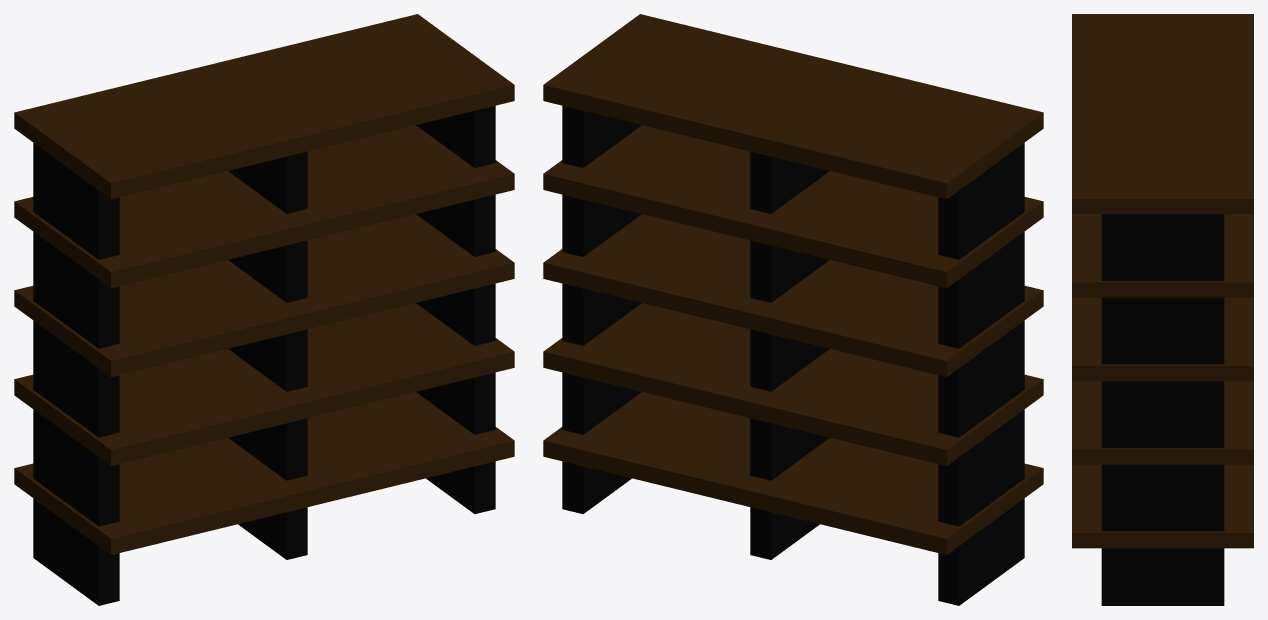
The model's file is Shelf.fbx.
3 renders of one model, left to right at view 1: azimuth 30°, elevation 25°; view 2: azimuth 150°, elevation 25°; view 3: azimuth 270°, elevation 25°, orthographic. The views are drawn at different scales.
Parts seen in each view (by area): view 1: shelf; view 2: shelf; view 3: shelf.
Part boxes in pixels (left/top/right/bottom): shelf: left=14, top=14, right=514, bottom=605; shelf: left=543, top=14, right=1043, bottom=605; shelf: left=1072, top=14, right=1253, bottom=605.
Size of the model in its own units: 2 by 2.06 by 0.8312.
